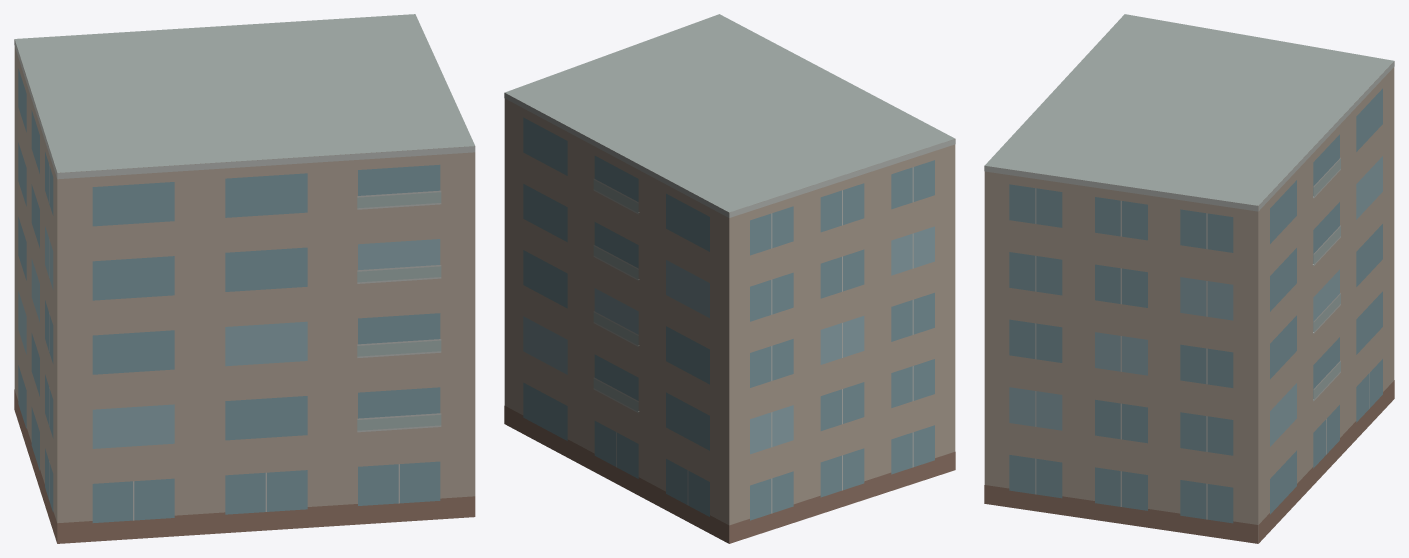
Rendered from survey-upis-32524922.glb.
3 views of the same model, side by side, from view 1: azimuth 30°, elevation 25°; view 2: azimuth 150°, elevation 25°; view 3: azimuth 270°, elevation 25° (orthographic). The views are drawn at different scales.
Visible parts, largest first — view 1: survey-upis-32524922.tmp; view 2: survey-upis-32524922.tmp; view 3: survey-upis-32524922.tmp.
Part boxes in pixels (x1,y1,x2,y2): survey-upis-32524922.tmp: (14,14,475,543); survey-upis-32524922.tmp: (504,14,955,543); survey-upis-32524922.tmp: (984,14,1394,543).
Size of the model in its own units: 17.54 by 14.4 by 15.84.
